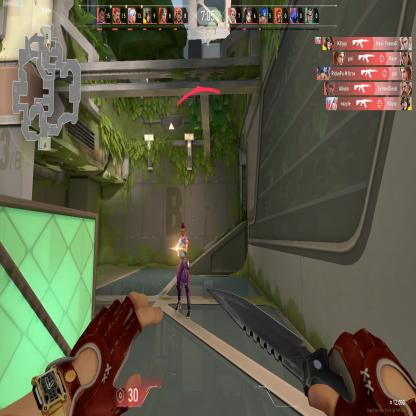enemy: (173, 219, 192, 319)
